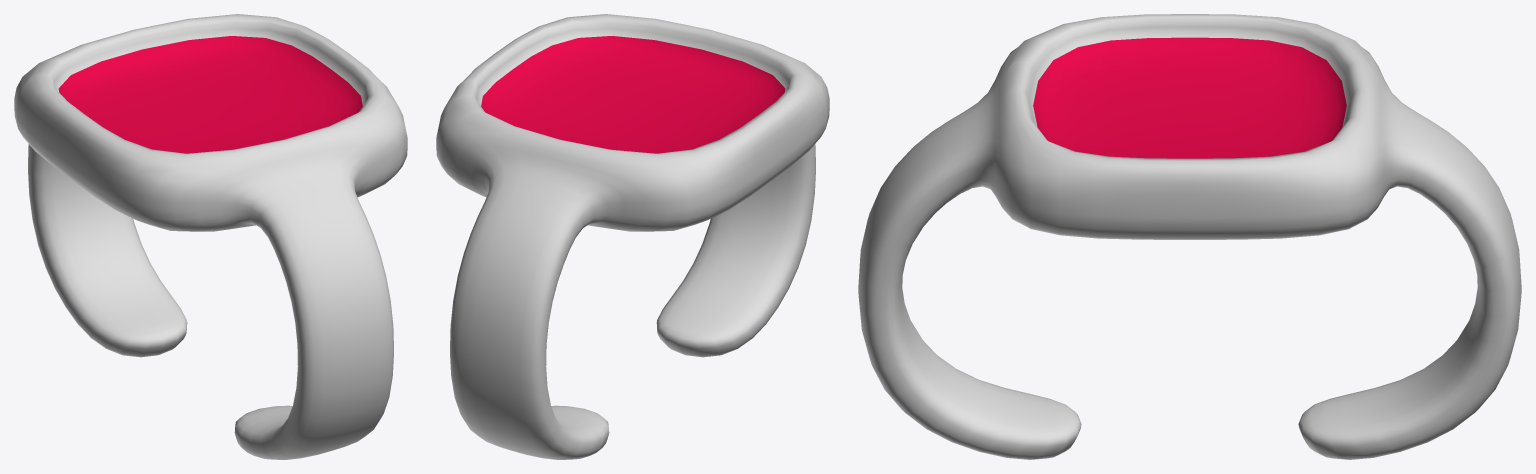
The model's file is clock.fbx.
3 views of the same model, side by side, from view 1: azimuth 30°, elevation 25°; view 2: azimuth 150°, elevation 25°; view 3: azimuth 270°, elevation 25° (orthographic). The views are drawn at different scales.
Parts seen in each view (by area): view 1: Cube; view 2: Cube; view 3: Cube.
Boxes of the visible parts, x1,y1,x2,y2 form: Cube: [14, 14, 407, 459]; Cube: [436, 14, 829, 459]; Cube: [858, 14, 1521, 459].
Size of the model in its own units: 200 by 208 by 348.
